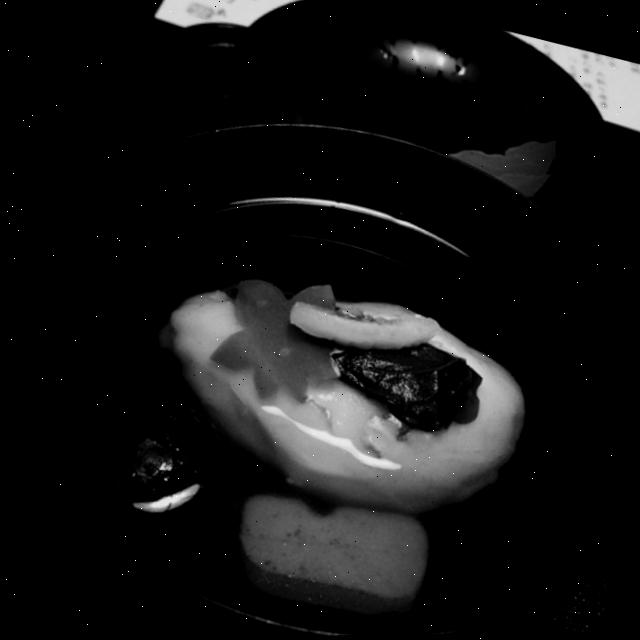汤锅炖物: (2, 51, 640, 640)
